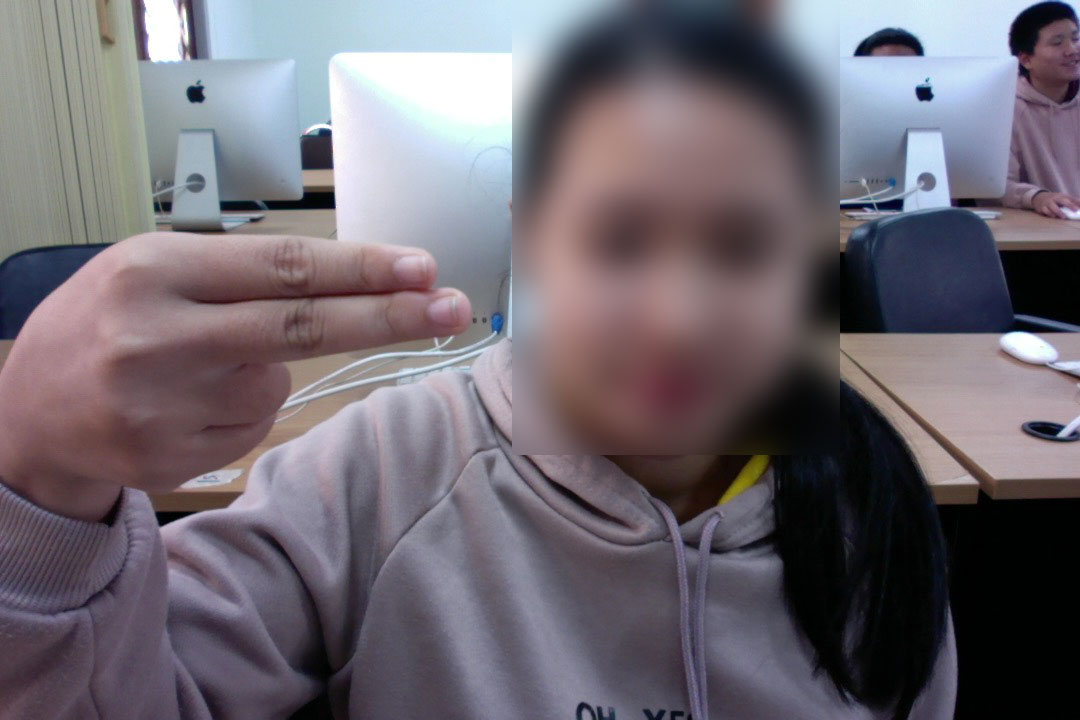hor: (3, 216, 482, 499)
